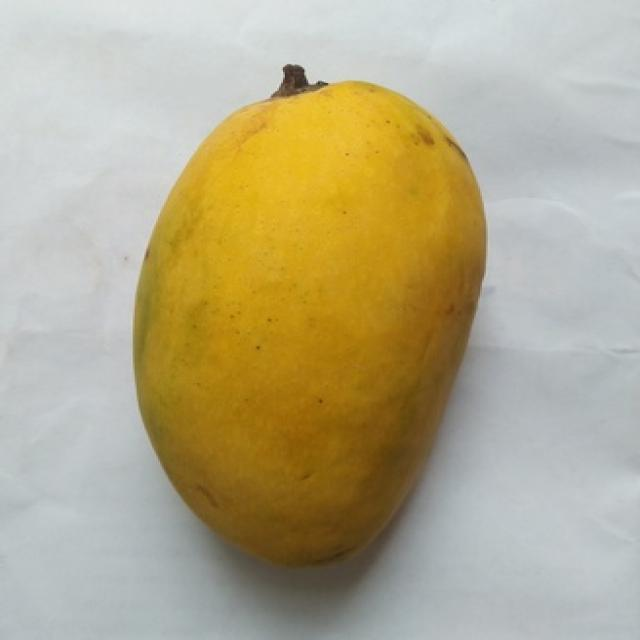Mango: (133, 81, 484, 562)
